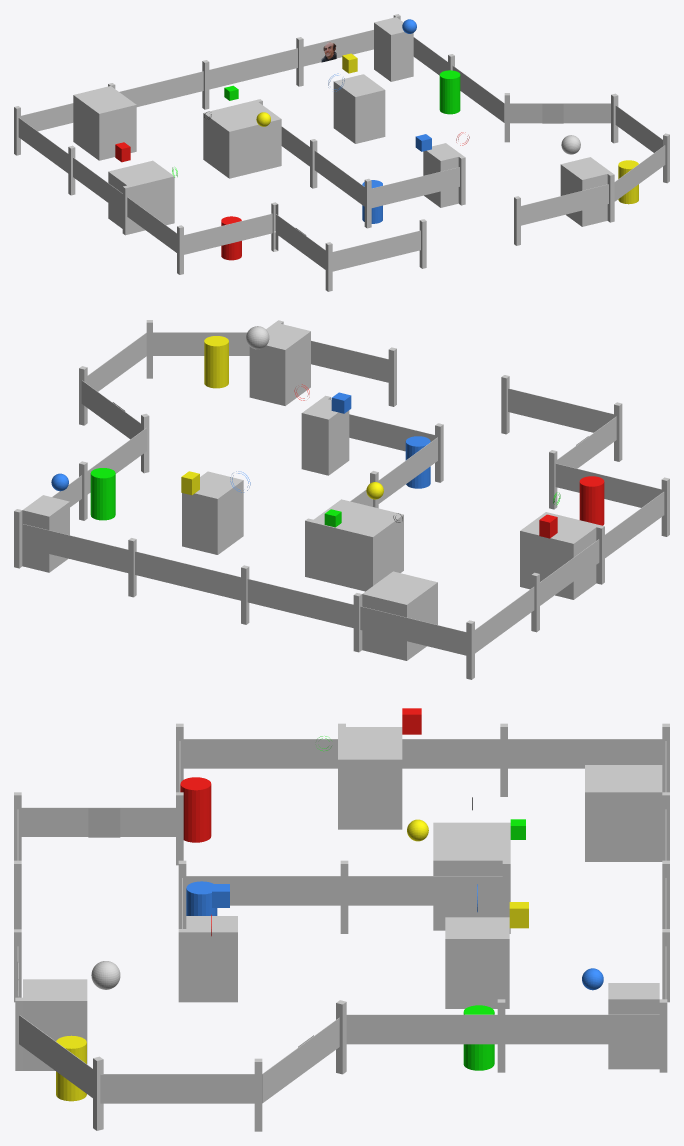
File: rins_task1_final.dae
3 views of the same model, one above another, from view 1: azimuth 30°, elevation 25°; view 2: azimuth 150°, elevation 25°; view 3: azimuth 270°, elevation 25° (orthographic). The views are drawn at different scales.
Visible parts, largest first — view 1: SketchUp (×25); view 2: SketchUp (×25); view 3: SketchUp (×24).
Part boxes in pixels (x1,y1,x2,y2): SketchUp (×25): (14,14,669,291); SketchUp (×25): (14,320,669,679); SketchUp (×24): (15,723,669,1131).
Bounding box in the file's own units: 245 × 201 × 33.48.
